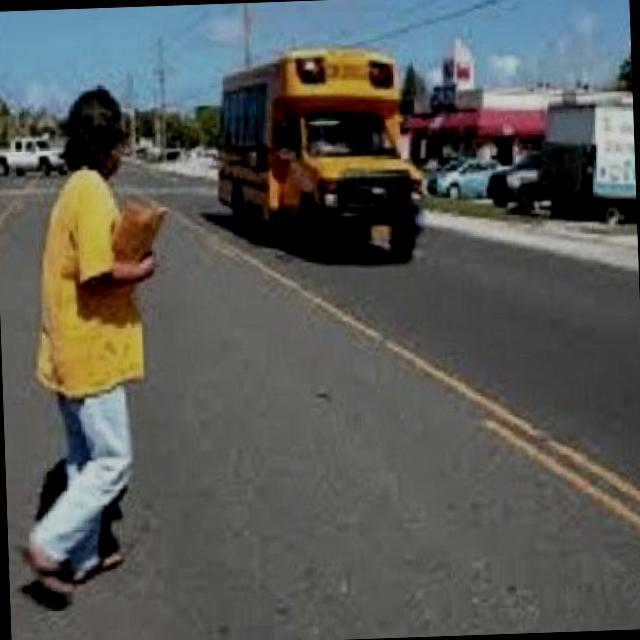Person: (0, 82, 187, 606)
